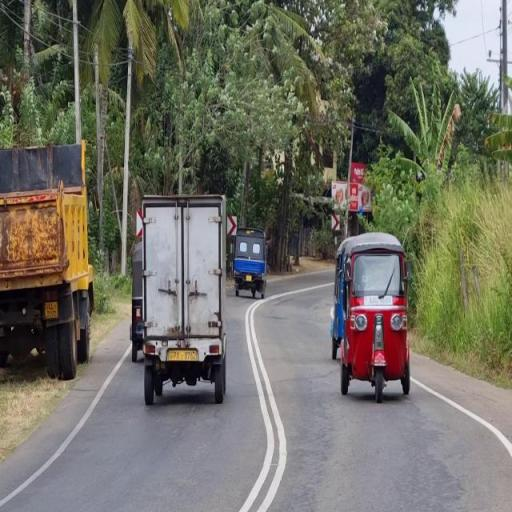double_white_line: (0, 346, 129, 506), (240, 293, 291, 512), (412, 376, 511, 457)
